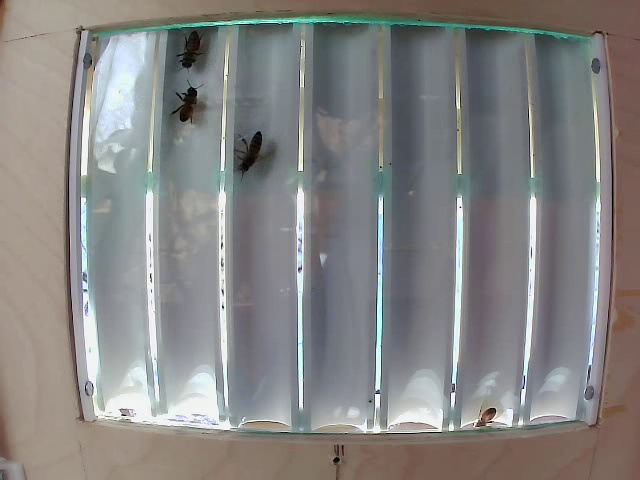bee: (230, 114, 276, 203), (167, 84, 208, 141), (172, 27, 205, 68)
